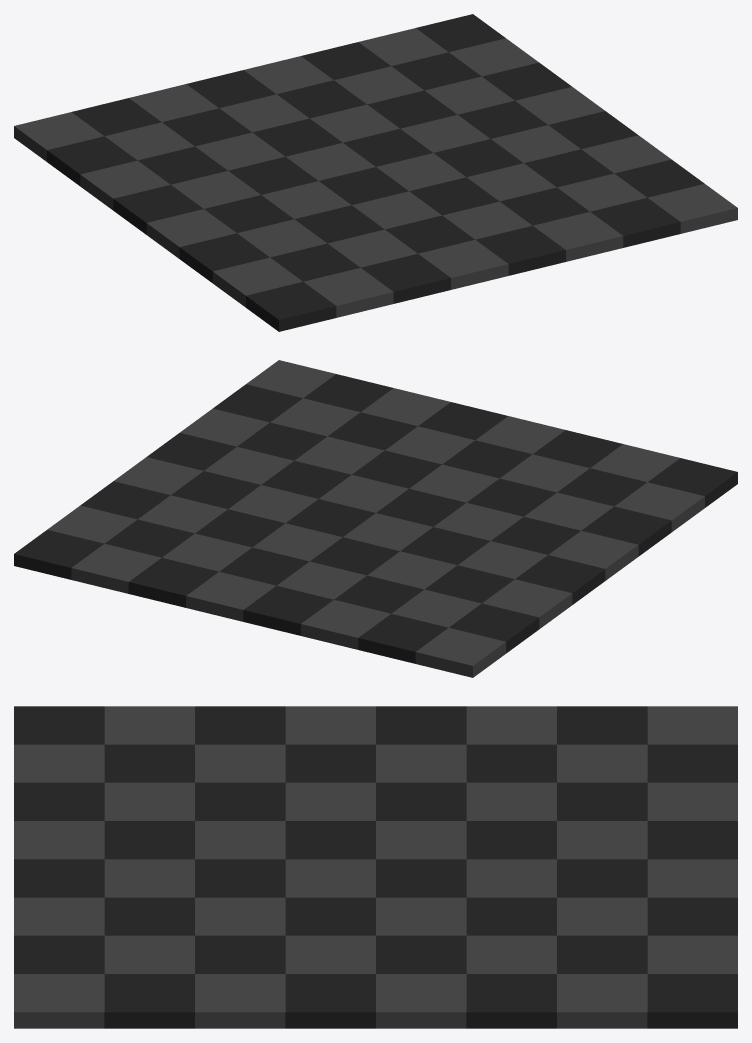
Rendered from Floor_0.obj.
3 views of the same model, one above another, from view 1: azimuth 30°, elevation 25°; view 2: azimuth 150°, elevation 25°; view 3: azimuth 270°, elevation 25° (orthographic). The views are drawn at different scales.
Size of the model in its own units: 120 by 3 by 120.
